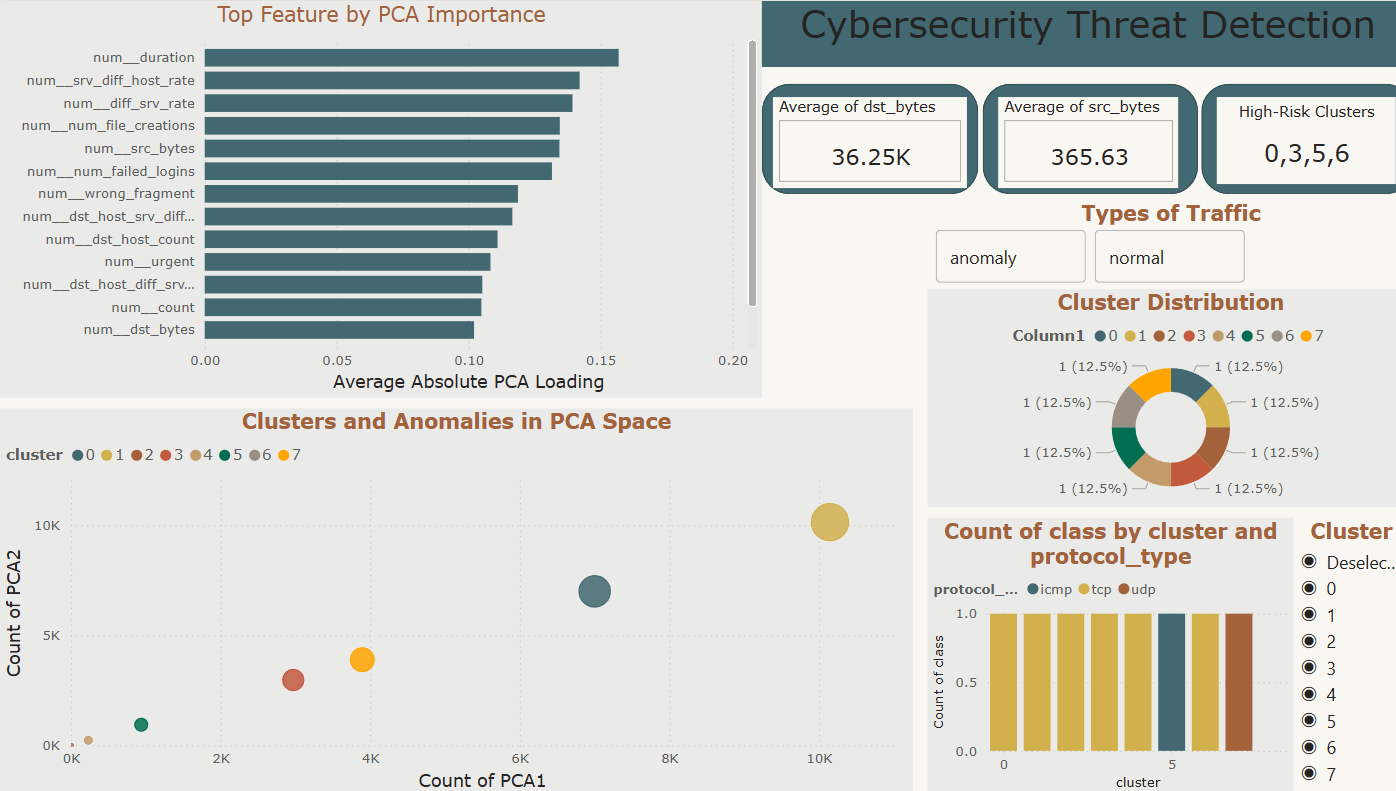

The dashboard page shown, as its layout file describes it:
{"tool":"powerbi","page":{"name":"Model","canvas":[1280,720],"ordinal":1},"visuals":[{"type":"shape","box":[890,75,194.8,99.8],"z":0,"group":"g1"},{"type":"shape","box":[1088.1,75,192,100],"z":0},{"type":"shape","box":[690,75,195.8,100],"z":1000},{"type":"clusteredBarChart","title":"Top Feature by PCA Importance","fields":{"Category":["feature_importance.Column1"],"Y":["Avg(feature_importance.Importance)"]},"box":[0,0,689.6,360],"z":2000},{"type":"scatterChart","title":"Clusters and Anomalies in PCA Space","fields":{"X":["CountNonNull(pca_components.PCA1)"],"Y":["CountNonNull(pca_components.PCA2)"],"Series":["pca_components.cluster"],"Size":["CountNonNull(pca_components.is_anomaly)"]},"box":[0,369,826,351],"z":3000},{"type":"listSlicer","title":"Cluster","fields":{"Values":["network_clusters.cluster"]},"box":[1171,468,105,252],"z":4000},{"type":"group","id":"g1","title":"Group 1","box":[890,75,195,100],"z":5000},{"type":"cardVisual","title":"Average of src_bytes","fields":{"Data":["Avg(cluster_representative_rows.src_bytes)"]},"box":[904,87,163,83],"z":6000},{"type":"cardVisual","title":"Average of dst_bytes","fields":{"Data":["Avg(cluster_representative_rows.dst_bytes)"]},"box":[700,87,175,83],"z":7000},{"type":"donutChart","title":"Cluster Distribution","fields":{"Y":["CountNonNull(cluster_representative_rows.class)"],"Category":["cluster_representative_rows.Column1"]},"box":[840,261,440,198],"z":8000},{"type":"advancedSlicerVisual","title":"Types of Traffic","fields":{"Values":["cluster_representative_rows.class"]},"box":[842,180,436,81],"z":10000},{"type":"textbox","title":"Cybersecurity Threat Detection","box":[690,0,590.1,60],"z":11000},{"type":"textbox","box":[1102,87,162,79],"z":12000},{"type":"columnChart","fields":{"Category":["cluster_representative_rows.cluster"],"Y":["CountNonNull(cluster_representative_rows.class)"],"Series":["cluster_representative_rows.protocol_type"]},"box":[840,468,331,252],"z":13000}]}

Visuals, with their boxes in screenshot pixels (x1, y1, x2, y2), scaled from the page's 1280x720 canvas onto the 1396x791 screenshot:
shape: bbox(971, 82, 1183, 192)
shape: bbox(1187, 82, 1395, 192)
shape: bbox(753, 82, 966, 192)
"Top Feature by PCA Importance" clusteredBarChart: bbox(0, 0, 752, 396)
"Clusters and Anomalies in PCA Space" scatterChart: bbox(0, 405, 901, 790)
"Cluster" listSlicer: bbox(1277, 514, 1392, 790)
"Group 1" group: bbox(971, 82, 1183, 192)
"Average of src_bytes" cardVisual: bbox(986, 96, 1164, 187)
"Average of dst_bytes" cardVisual: bbox(763, 96, 954, 187)
"Cluster Distribution" donutChart: bbox(916, 287, 1395, 504)
"Types of Traffic" advancedSlicerVisual: bbox(918, 198, 1394, 287)
"Cybersecurity Threat Detection" textbox: bbox(753, 0, 1395, 66)
textbox: bbox(1202, 96, 1379, 182)
columnChart - cluster_representative_rows.cluster x CountNonNull(cluster_representative_rows.class): bbox(916, 514, 1277, 790)
